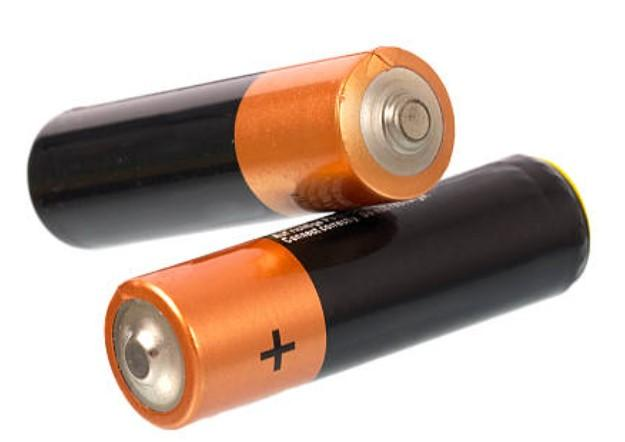Battery: (106, 155, 591, 428), (27, 47, 455, 246)
